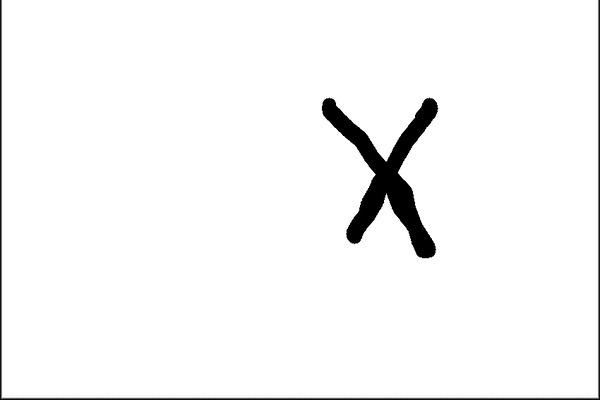X: (303, 80, 445, 272)
